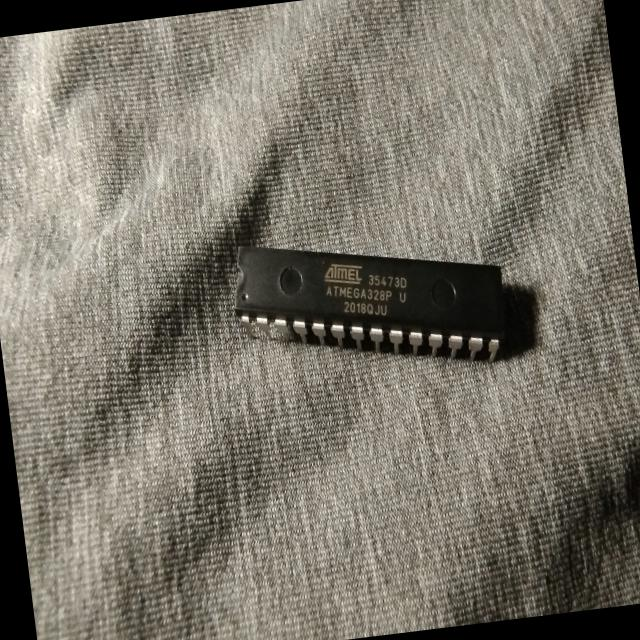atmega: (224, 211, 516, 396)
